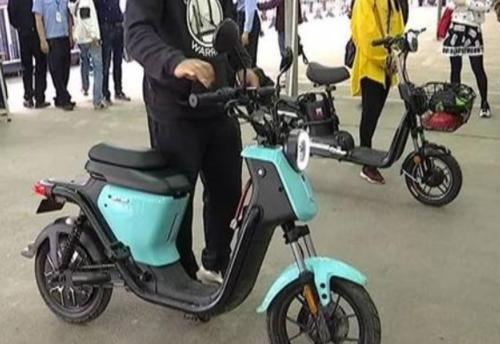motor: (35, 70, 383, 344)
